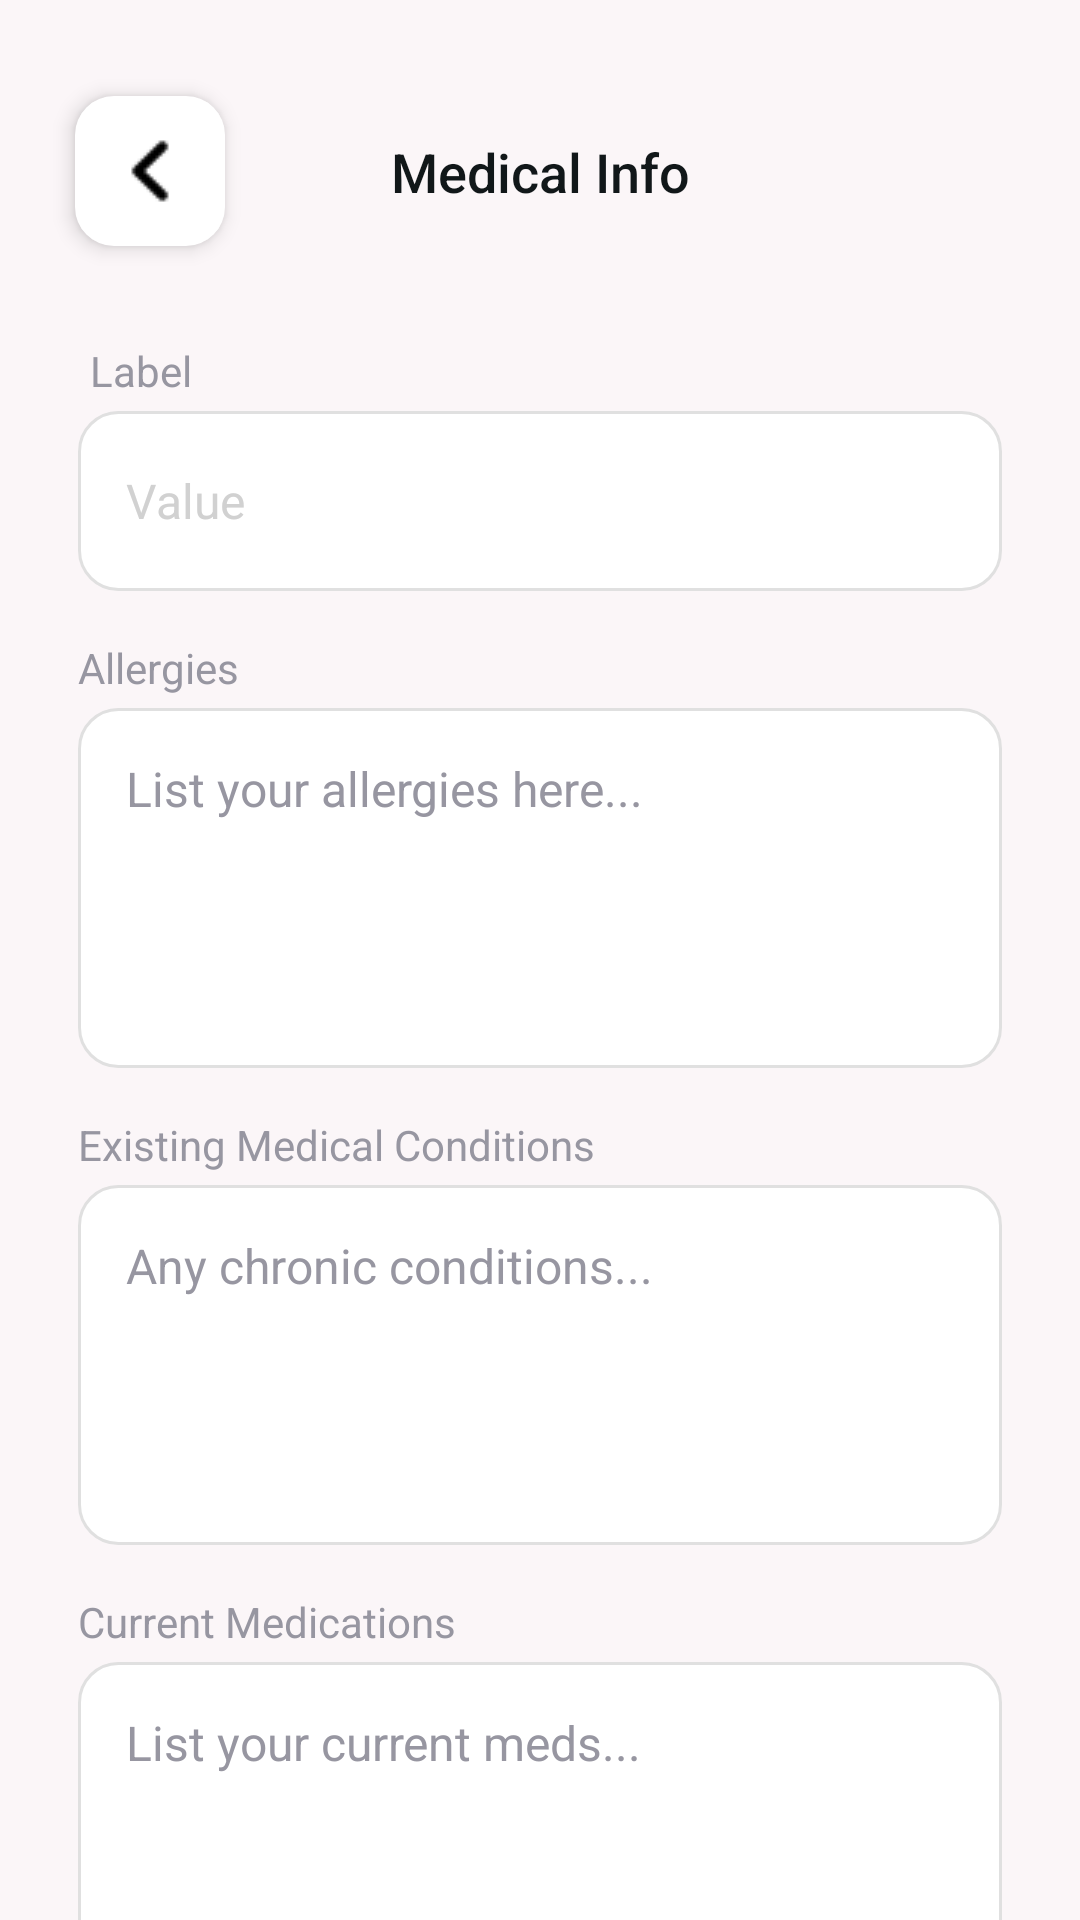

Screen size 1080w x 1920h. Icon name, then its box in pixels as bbox=(x1, y1, x2, y2):
back arrow: bbox=(75, 96, 225, 246)
